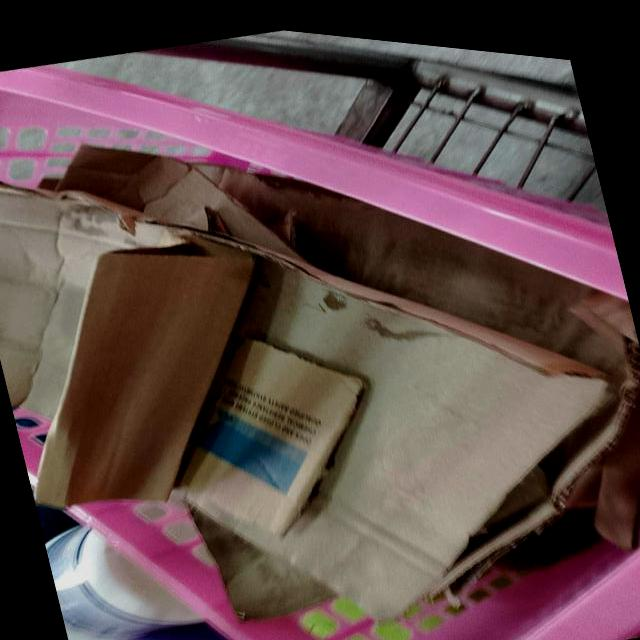General: (1, 31, 636, 637)
Infectious: (183, 334, 366, 537)
Sharps: (0, 61, 628, 303)
